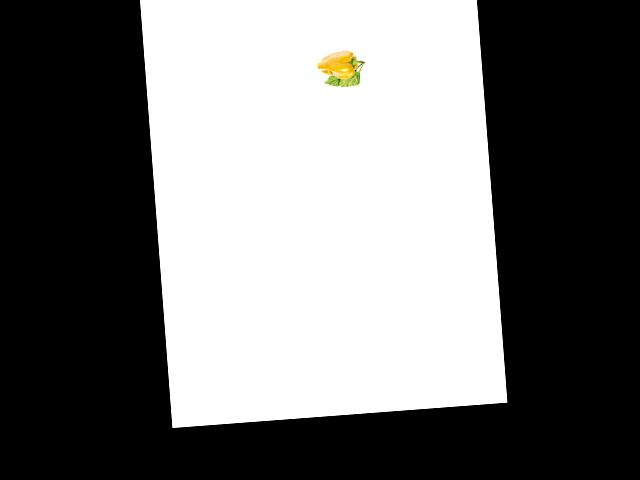bell_pepper: (314, 46, 367, 82)
